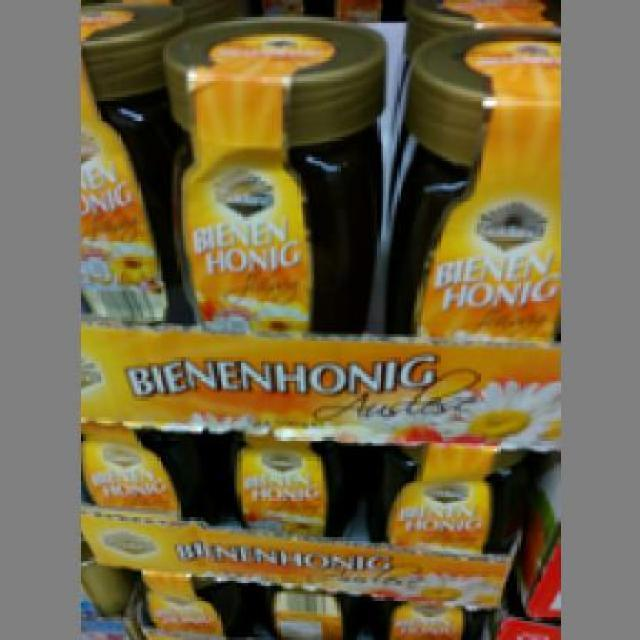Honey: (137, 13, 380, 330), (388, 25, 564, 328), (363, 446, 523, 548), (217, 432, 354, 534), (83, 420, 206, 531)
